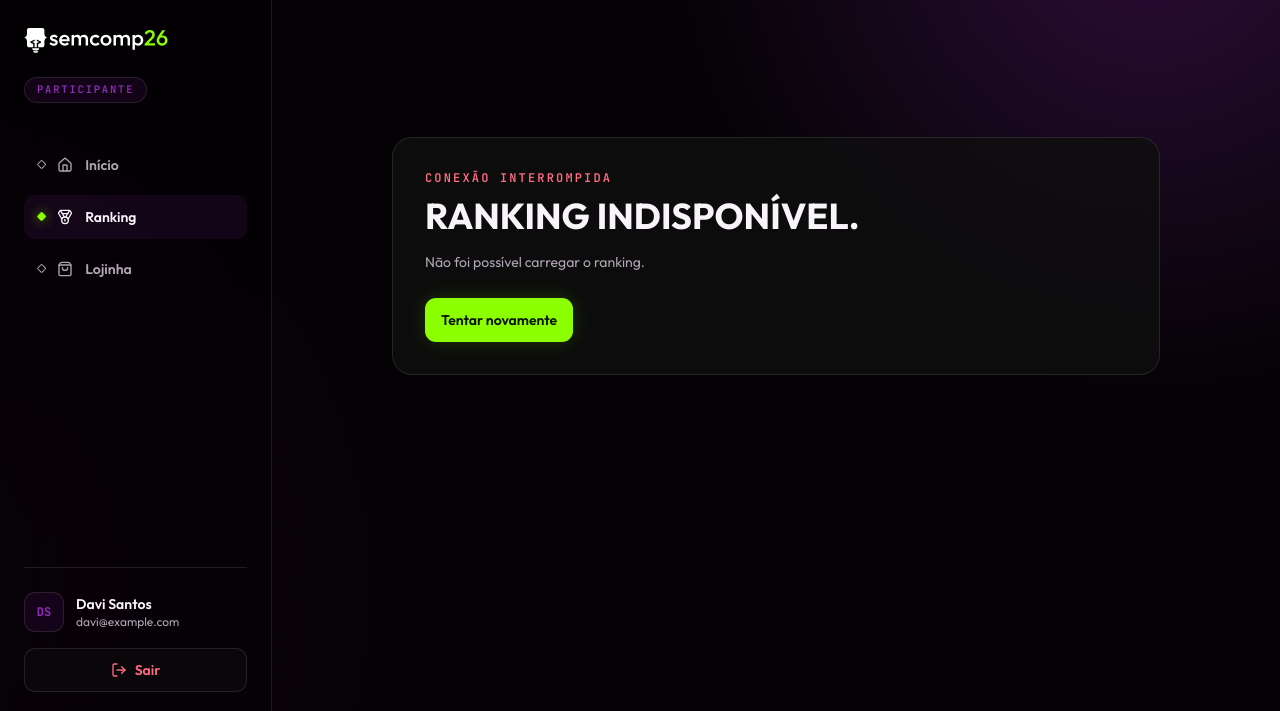
Test: RankingClient › permite tentar novamente após uma falha recuperável
Click the button "Tentar novamente".
click(499, 320)  # box 425,298 -> 573,342
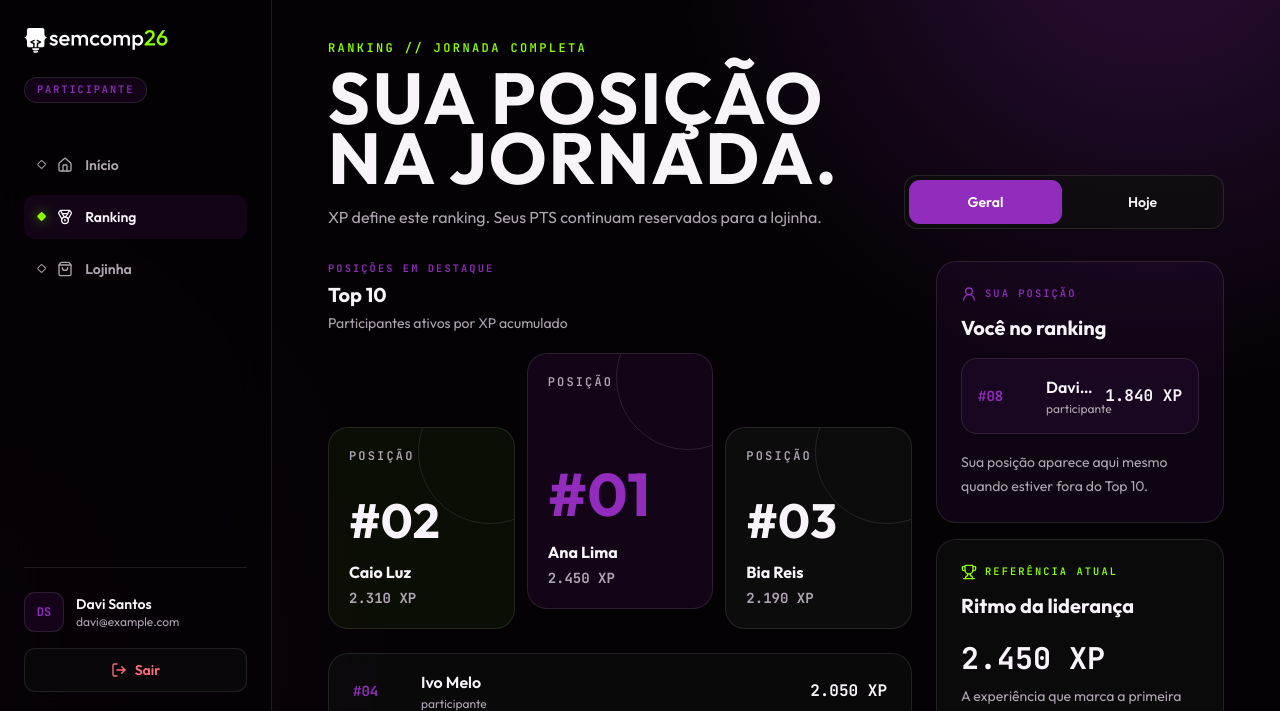
Now the text "Ana Lima" is shown, box 548,542 -> 618,562
